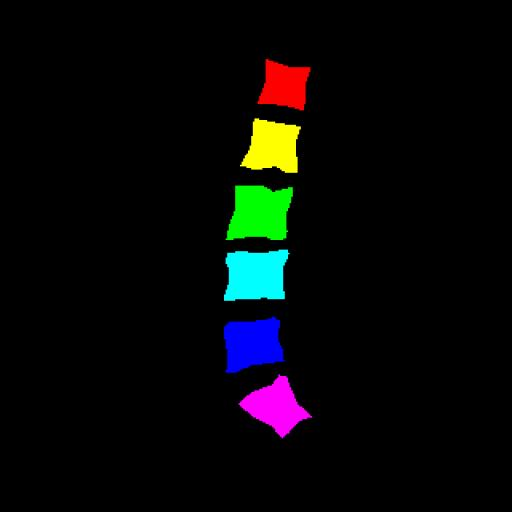L1: (258, 59, 310, 110)
L2: (241, 118, 301, 173)
L3: (227, 186, 293, 240)
L4: (224, 250, 288, 300)
L5: (224, 317, 284, 373)
S1: (239, 375, 312, 438)
